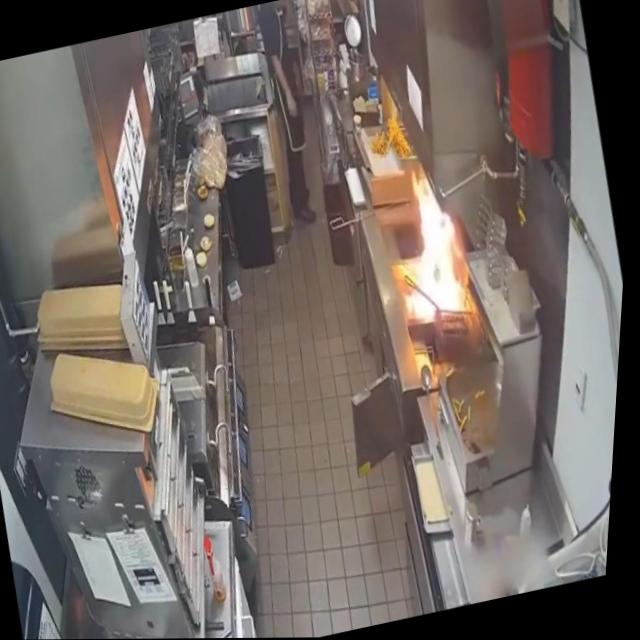fire: (383, 154, 487, 334)
